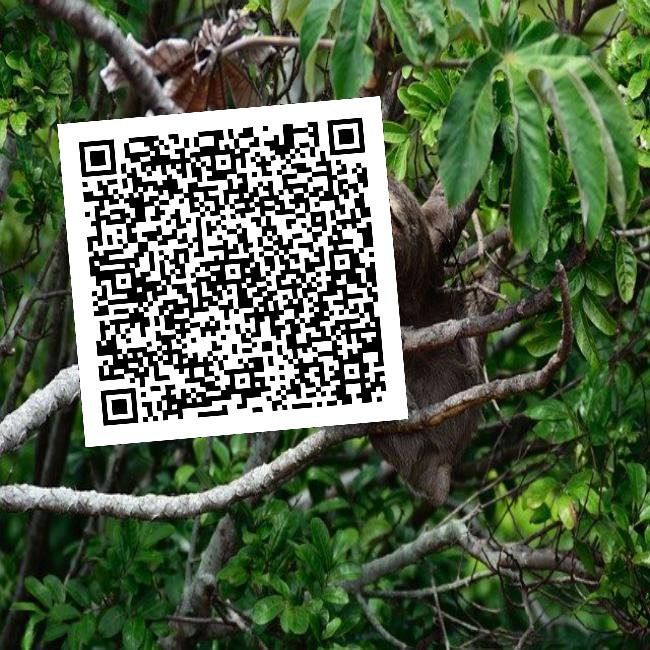qr_code: (57, 96, 408, 447)
